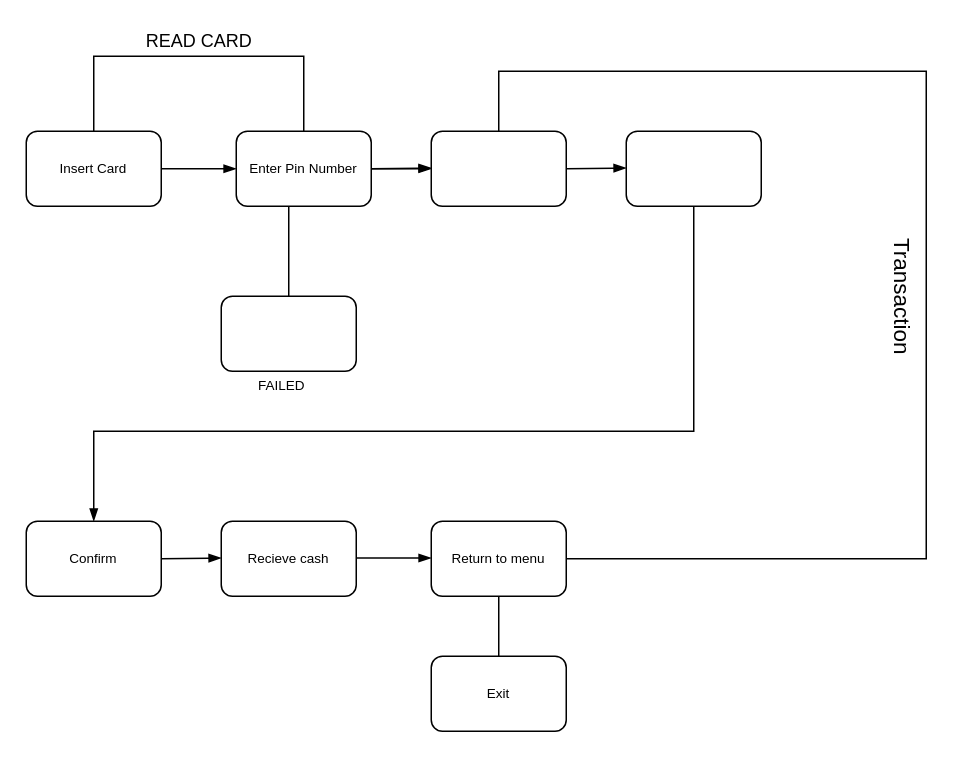
Some shapes in this 954 by 758 pixel diagram are drawn without their labels. Here are the shapes that lost their labels. From the top down, the centre of each, then its label:
At (498,168): "Select Withdrawl".
At (693,168): "Enter withdrawl amount".
At (288,333): "Re-enter PIN number".
